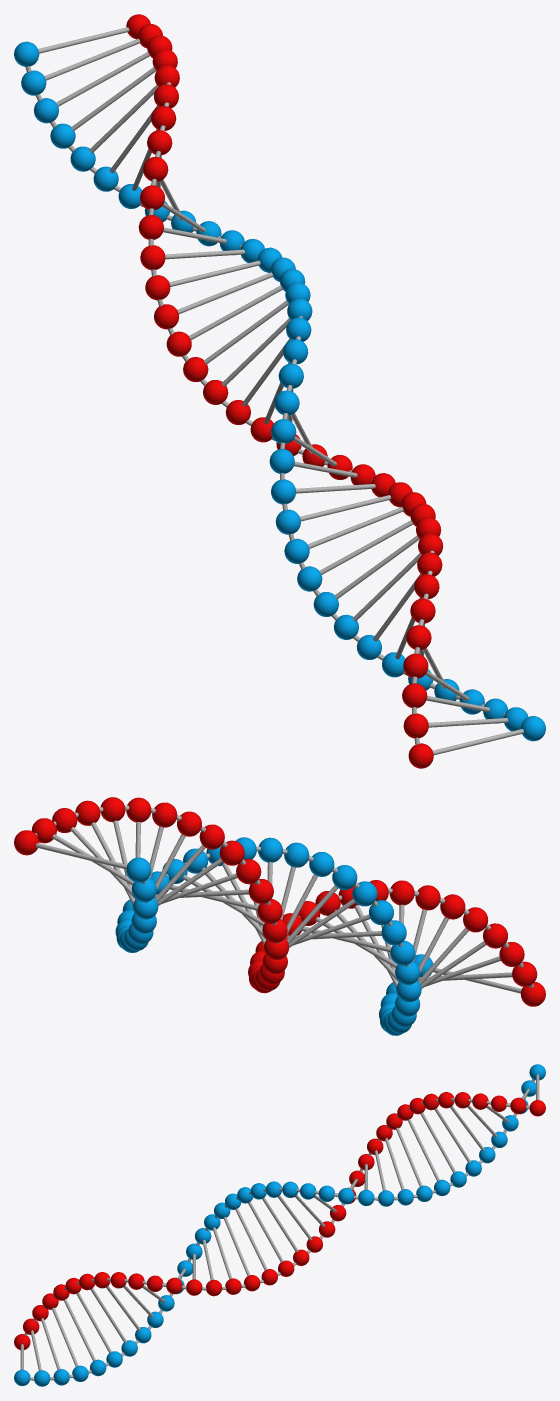
3 views of the same model, one above another, from view 1: azimuth 30°, elevation 25°; view 2: azimuth 150°, elevation 25°; view 3: azimuth 270°, elevation 25° (orthographic). The views are drawn at different scales.
Visible parts, largest first — view 1: no part large enough to name; view 2: Объект_Сфера_1, Объект_Цилиндр, Объект_Сфера_1_17, Объект_Сфера_7, Объект_Сфера_8, Объект_Сфера_9, Объект_Сфера, Объект_Сфера_1_20, Объект_Сфера_30, Объект_Сфера_32, Объект_Сфера_1_18, Объект_Сфера_29 (+55 smaller); view 3: no part large enough to name.
Part boxes in pixels (left/top/right/bottom): Объект_Сфера_1: left=126, top=857, right=151, bottom=882; Объект_Цилиндр: left=36, top=843, right=126, bottom=869; Объект_Сфера_1_17: left=352, top=881, right=377, bottom=906; Объект_Сфера_7: left=440, top=894, right=465, bottom=919; Объект_Сфера_8: left=415, top=885, right=440, bottom=910; Объект_Сфера_9: left=389, top=880, right=414, bottom=905; Объект_Сфера: left=14, top=830, right=39, bottom=855; Объект_Сфера_1_20: left=284, top=842, right=309, bottom=867; Объект_Сфера_30: left=199, top=824, right=224, bottom=849; Объект_Сфера_32: left=152, top=802, right=177, bottom=827; Объект_Сфера_1_18: left=332, top=865, right=357, bottom=889; Объект_Сфера_29: left=219, top=840, right=244, bottom=865.
Bounding box in the file's own units: 0.3391 × 1.06 × 1.77.
